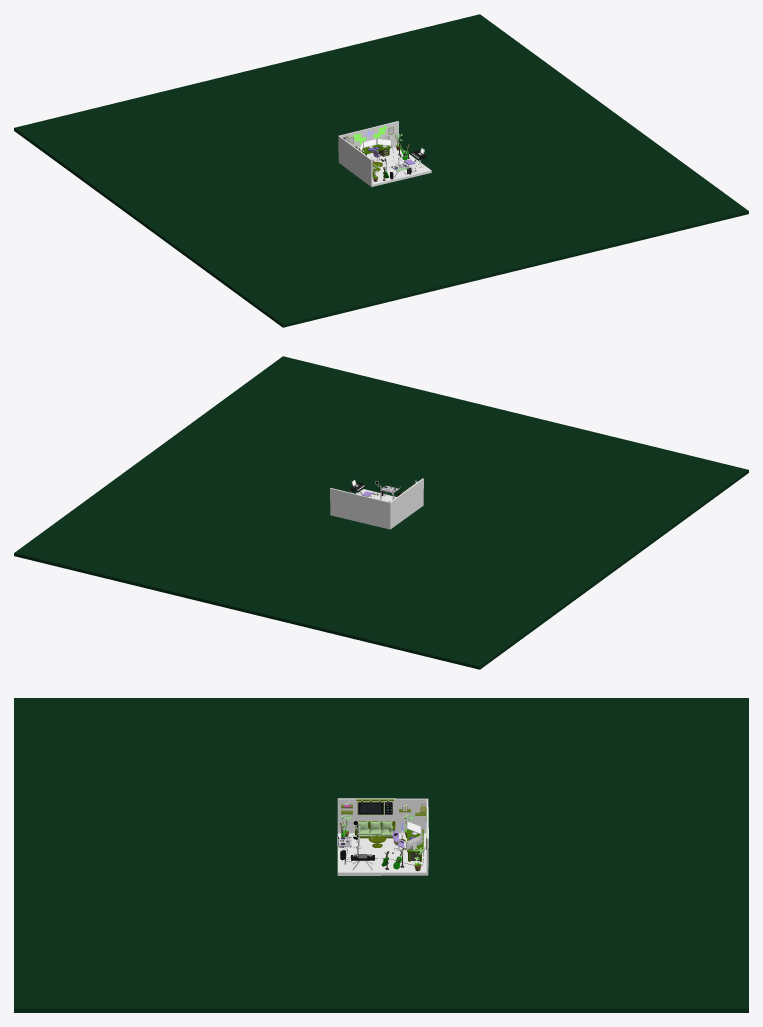
File: room.glb
3 renders of one model, top to bottom at view 1: azimuth 30°, elevation 25°; view 2: azimuth 150°, elevation 25°; view 3: azimuth 270°, elevation 25°, orthographic. The views are drawn at different scales.
Parts seen in each view (by area): view 1: static_shell; view 2: static_shell; view 3: static_shell, hot_sofa.
Boxes of the visible parts, box(x1,y1,x2,y2) form: static_shell: box(14, 14, 748, 327); static_shell: box(14, 356, 748, 669); static_shell: box(14, 698, 748, 1012); hot_sofa: box(355, 820, 395, 838).
Bounding box in the file's own units: 50.99 × 3.2 × 50.99.
